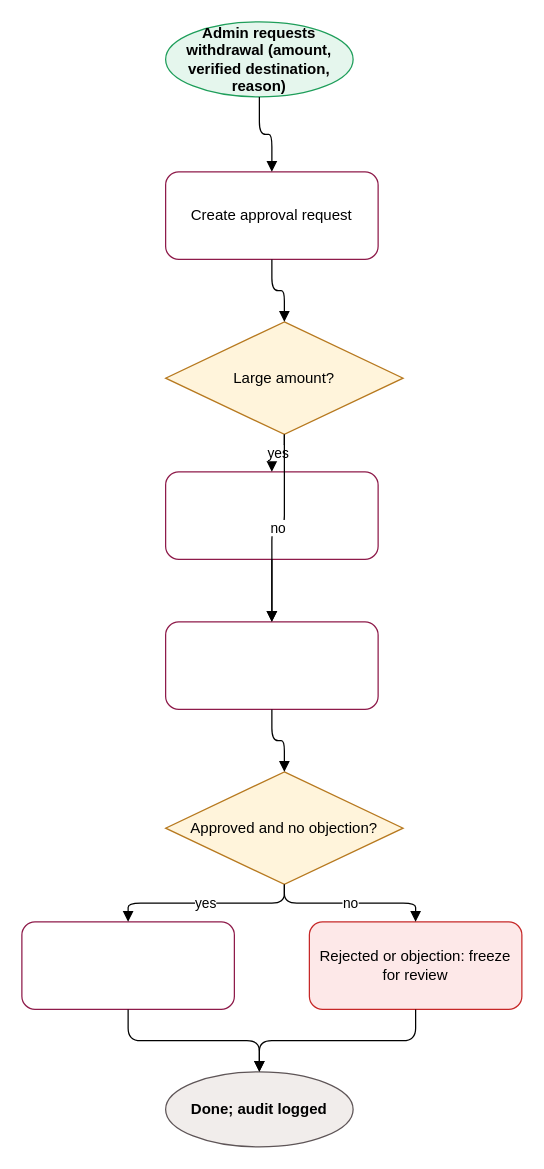
The diagram is 544 pixels wide and 1169 high, and some of its shapes have lost their labels. Each missing label, with the centre of its shape:
"Execute transfer via payments" goes at (127,965).
"Notify all members; cooling-off period" goes at (271,515).
"Second admin approves" goes at (271,665).
